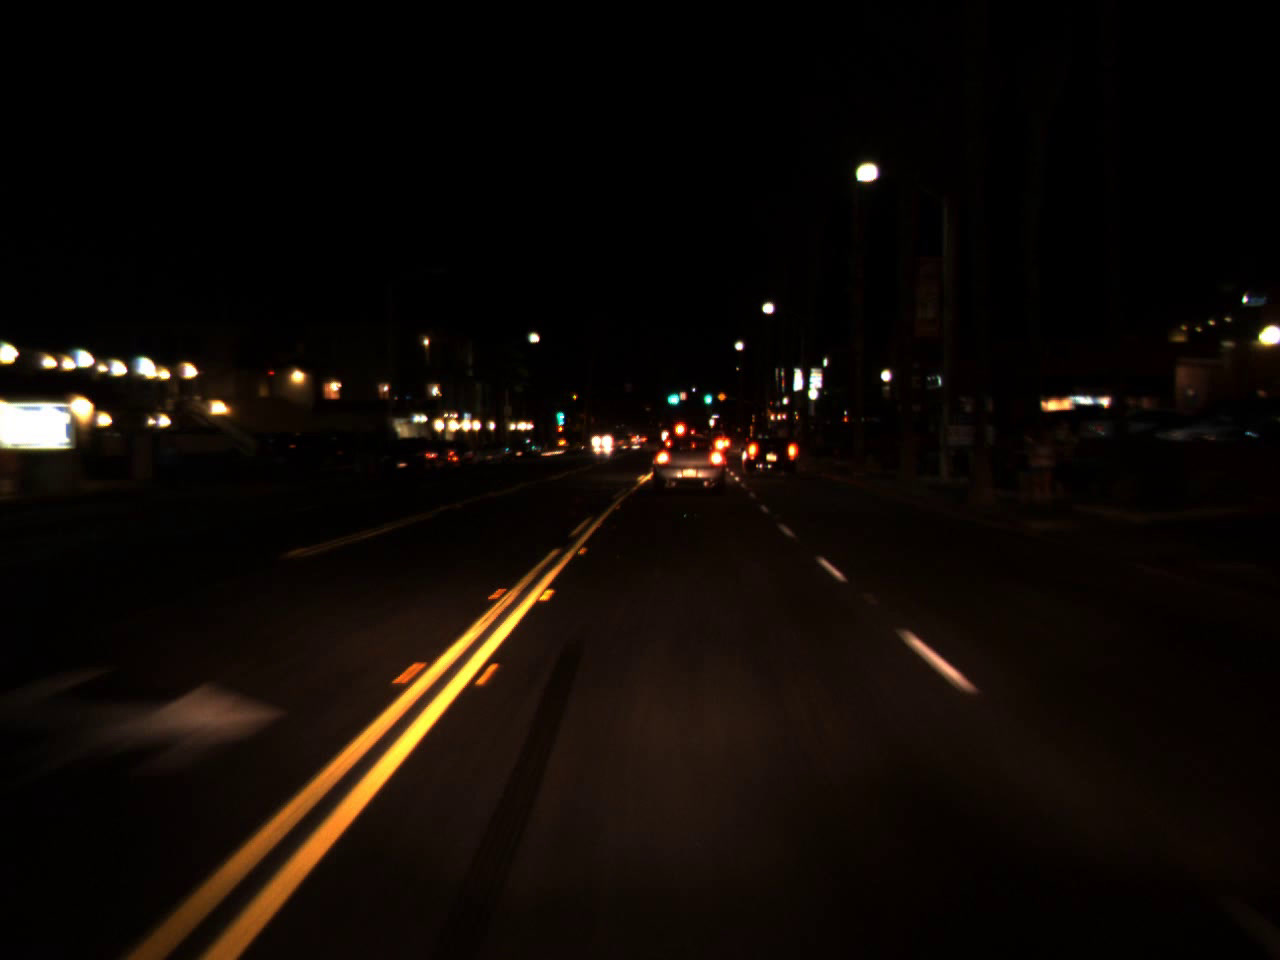go: (662, 381, 681, 408), (554, 396, 564, 429), (703, 390, 713, 402)
